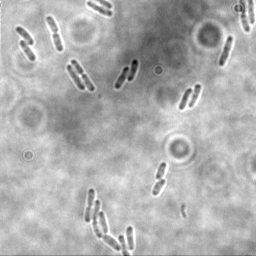Dividing: (70, 59, 97, 92), (45, 16, 65, 53), (86, 1, 114, 18), (238, 0, 251, 33)
Microcolony: (83, 187, 136, 255)
Rod: (64, 64, 86, 92), (217, 36, 234, 68), (18, 40, 37, 63), (15, 25, 35, 46), (113, 66, 130, 90), (188, 83, 203, 109), (177, 88, 192, 111), (126, 58, 139, 83), (151, 178, 167, 197), (154, 161, 168, 180), (246, 0, 256, 26)
